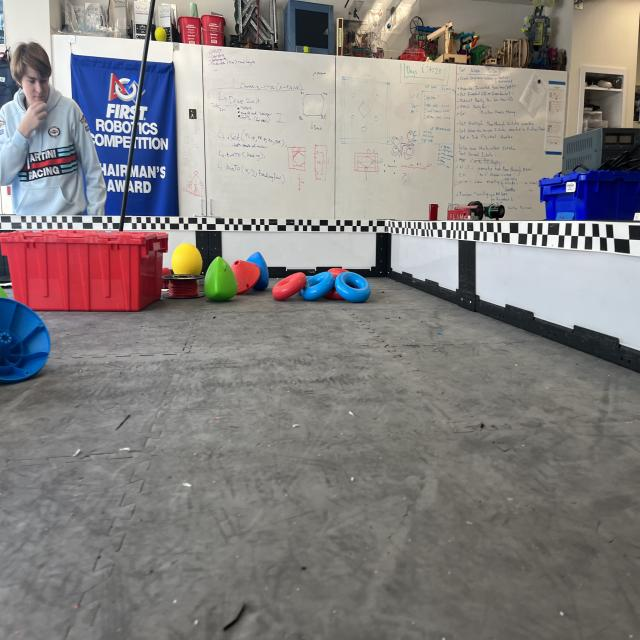Blue-Ring: (335, 272, 371, 303), (300, 272, 335, 300)
Red-Ring: (272, 272, 306, 300)
